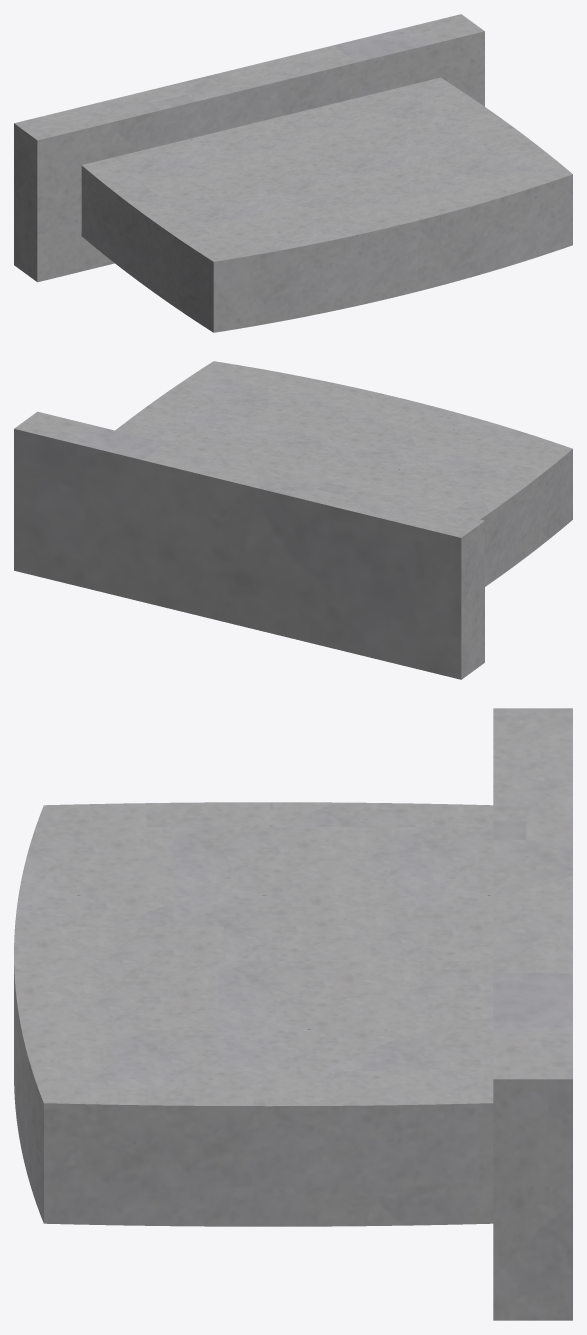
The picture shows the model from 3 angles, top to bottom: view 1: azimuth 30°, elevation 25°; view 2: azimuth 150°, elevation 25°; view 3: azimuth 270°, elevation 25°; orthographic projection. The views are drawn at different scales.
Visible parts, largest first — view 1: PA-588-F_LOD0; view 2: PA-588-F_LOD0; view 3: PA-588-F_LOD0.
Boxes of the visible parts, x1,y1,x2,y2 form: PA-588-F_LOD0: (14, 14, 572, 332); PA-588-F_LOD0: (14, 361, 572, 679); PA-588-F_LOD0: (14, 708, 572, 1320).
Size of what is drawn, in the model's own units: 168 by 50.8 by 107.
